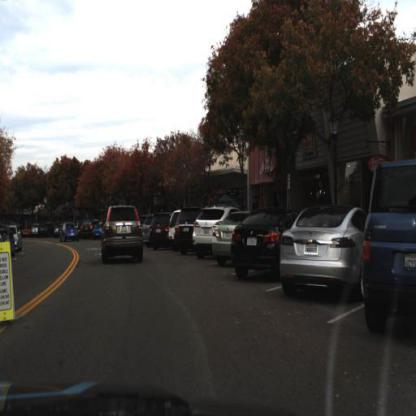car: (364, 161, 416, 345), (277, 195, 363, 306), (230, 204, 286, 285), (99, 200, 147, 267), (212, 205, 250, 267), (192, 203, 218, 263), (175, 204, 201, 255), (59, 219, 83, 246), (167, 206, 180, 252), (7, 222, 24, 255), (1, 226, 14, 259)
